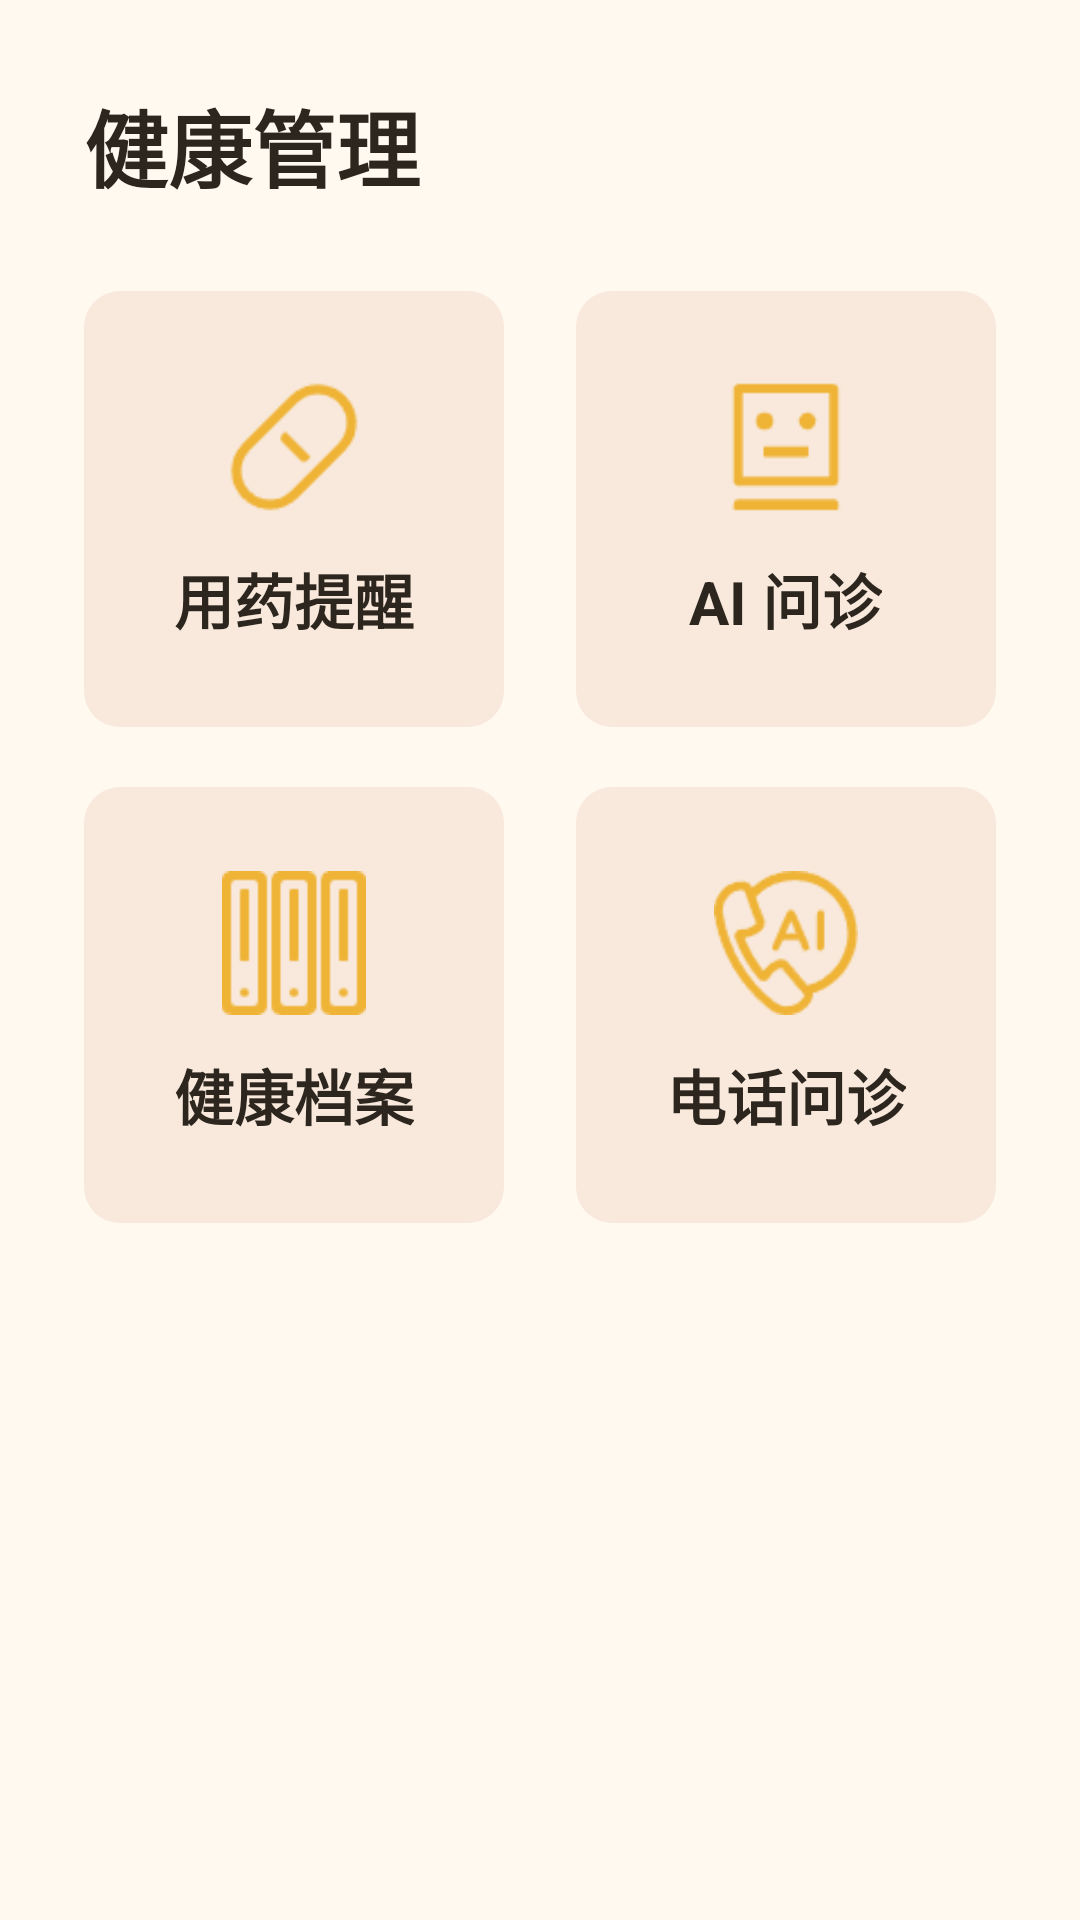

Where to tap for icons on this 1080 × 1920 app screen, as (x,y):
phone: (786,943)
